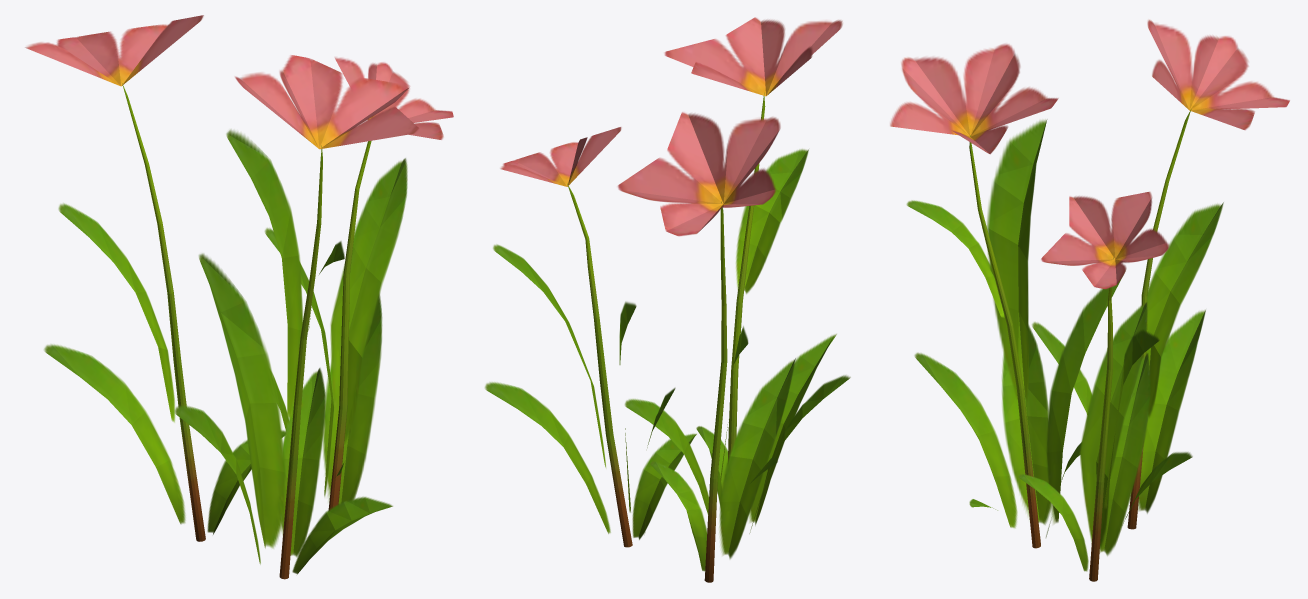
The model's file is flowerGroupQ.glb.
3 renders of one model, left to right at view 1: azimuth 30°, elevation 25°; view 2: azimuth 150°, elevation 25°; view 3: azimuth 270°, elevation 25°, orthographic. The views are drawn at different scales.
Visible parts, largest first — view 1: Flower_3_Group; view 2: Flower_3_Group; view 3: Flower_3_Group.
Boxes of the visible parts, bbox=[...] form: Flower_3_Group: bbox=[25, 15, 453, 579]; Flower_3_Group: bbox=[485, 17, 850, 582]; Flower_3_Group: bbox=[890, 19, 1289, 581].
Size of the model in its own units: 1.49 by 2.05 by 1.59.
2 materials, 2 textured.
